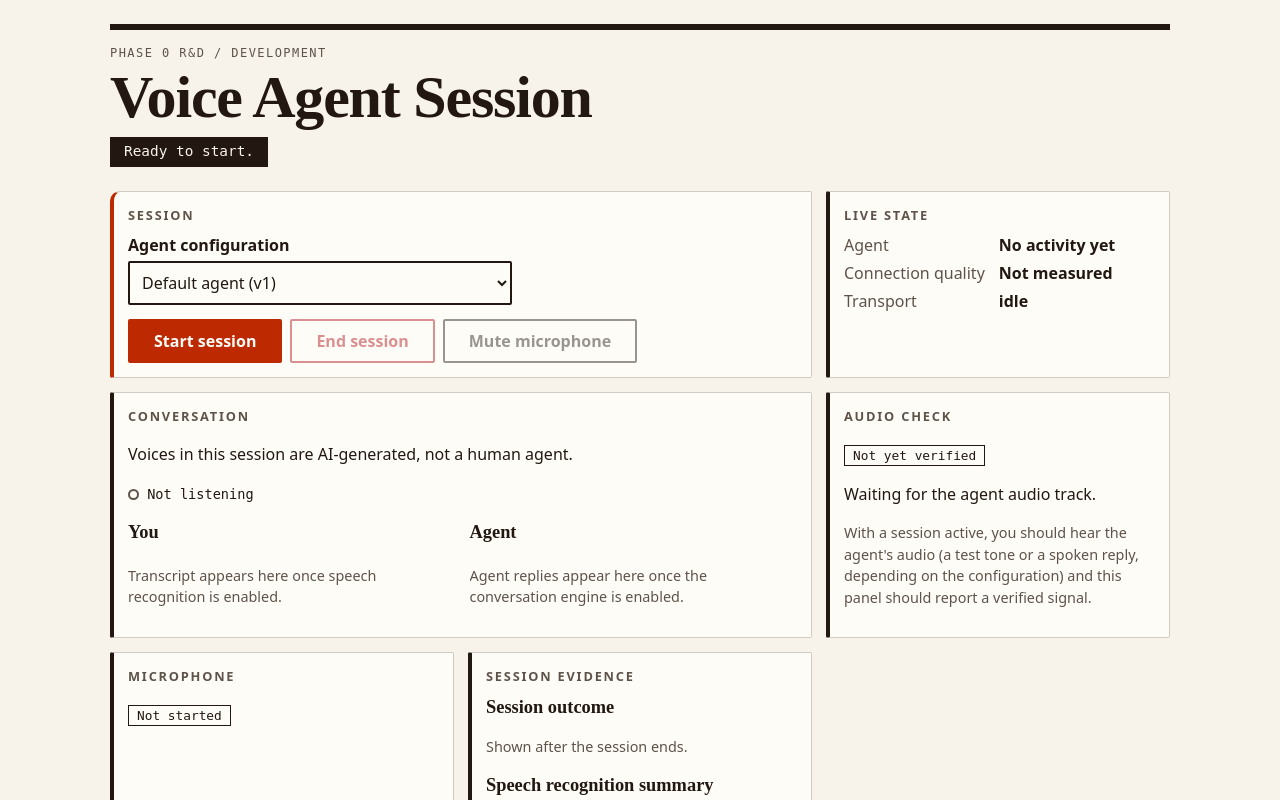
transcript panel › renders Devanagari, romanized Hinglish and mixed text literally
What coordinates should you click on to do the following:
click the button "Start session"
I would click on:
 (205, 341)
Its box is [128,319,282,363].
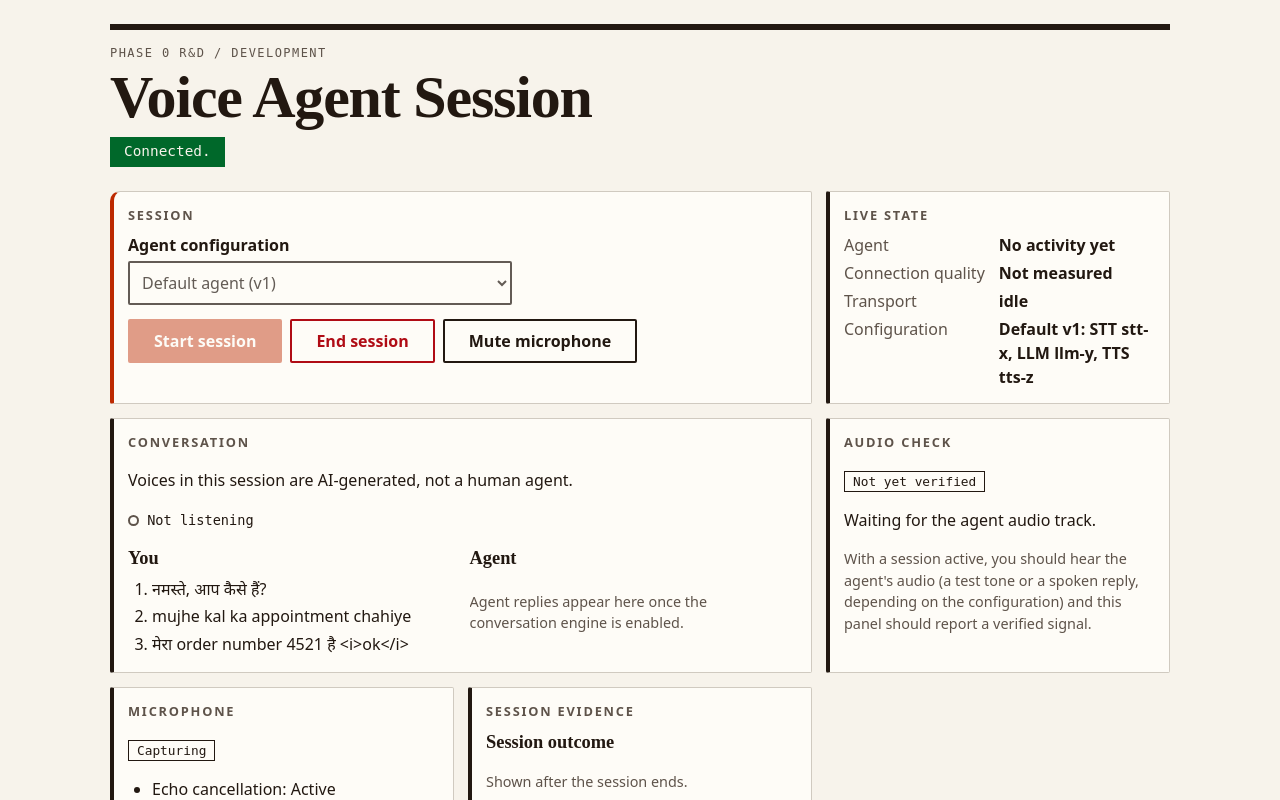
Check: the message "Connected." is shown, box [110,137,225,167]
Check: the list item "नमस्ते, आप कैसे हैं?" is shown, box [152,578,266,600]
Check: the list item "mujhe kal ka appointment chahiye" is shown, box [152,603,456,631]
